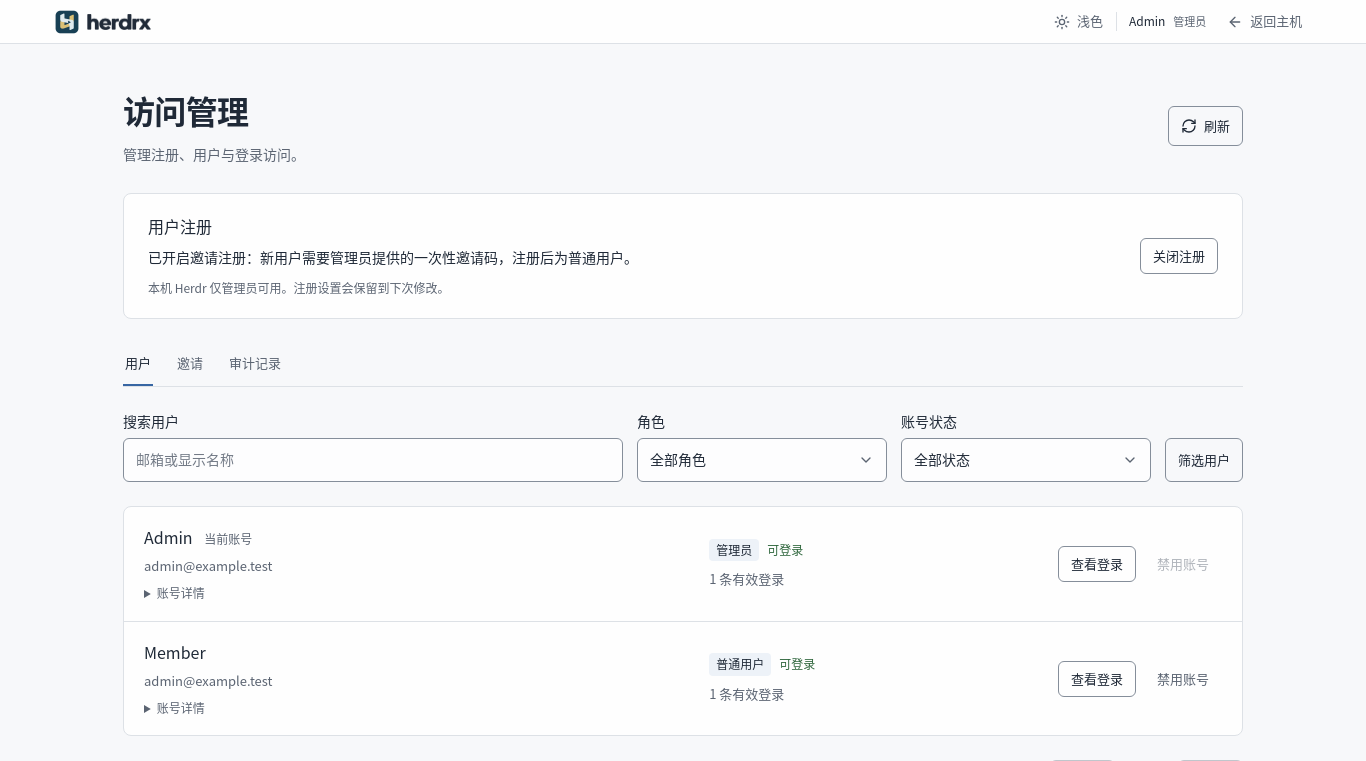
Test: prevents self-disable and reports a failed member mutation
Check: the heading "Member" is shown, box [144,640,206,664]
Check: the 1st button "禁用账号" is disabled, box [1144,546,1222,582]
Click the button "禁用账号" in the row of "Member".
click(1183, 679)  # box [1144,660,1222,697]
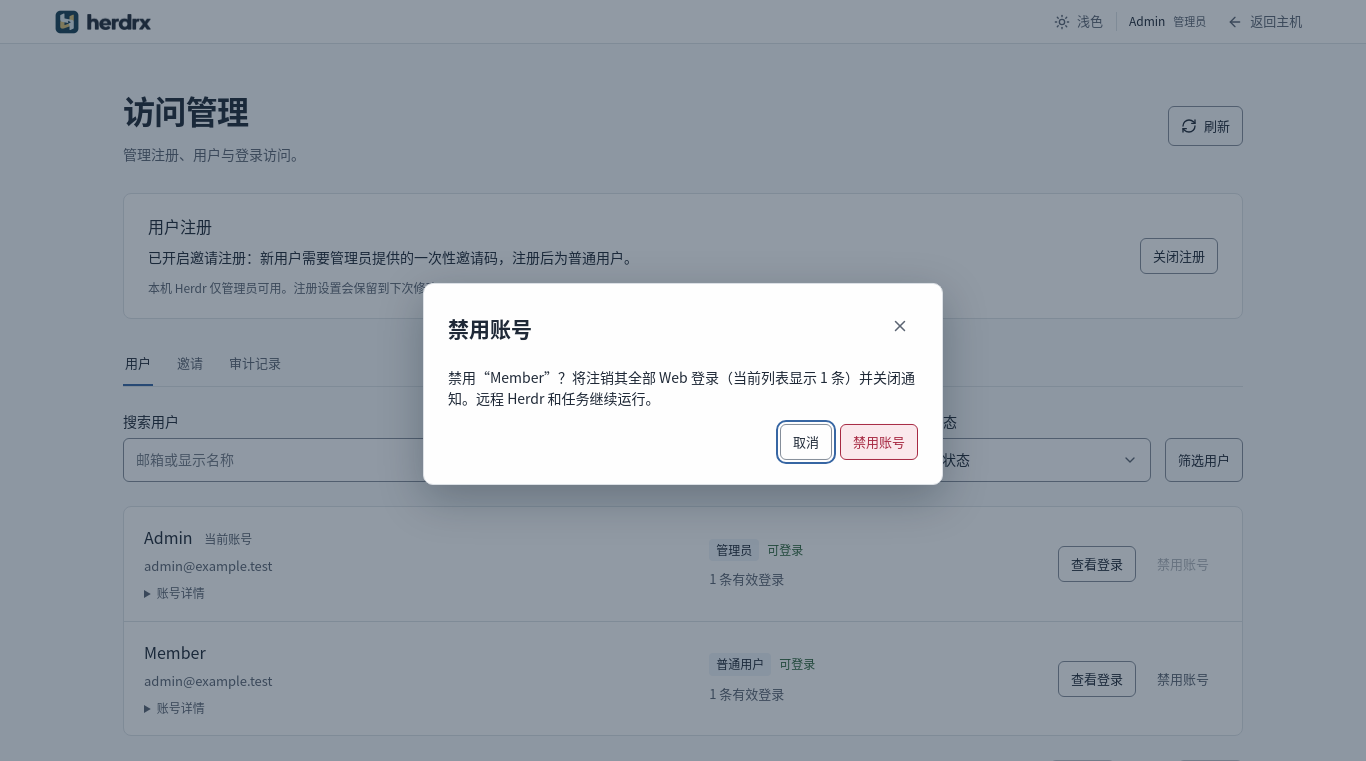
Check: the dialog shows "远程 Herdr 和任务继续运行", box [448,366,915,408]
Click the button "禁用账号".
click(879, 442)  # box [840,424,918,460]
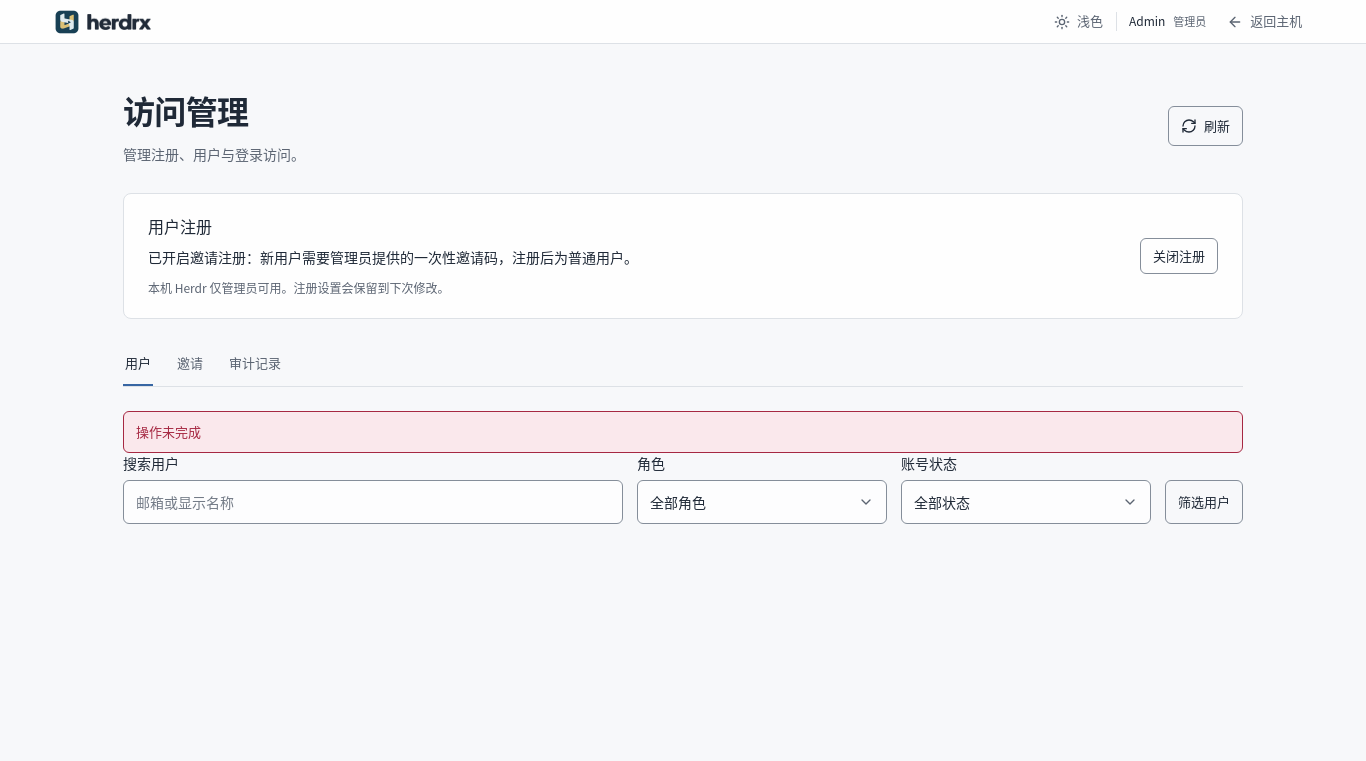
Check: the message reads "操作未完成", box [136,422,201,441]
